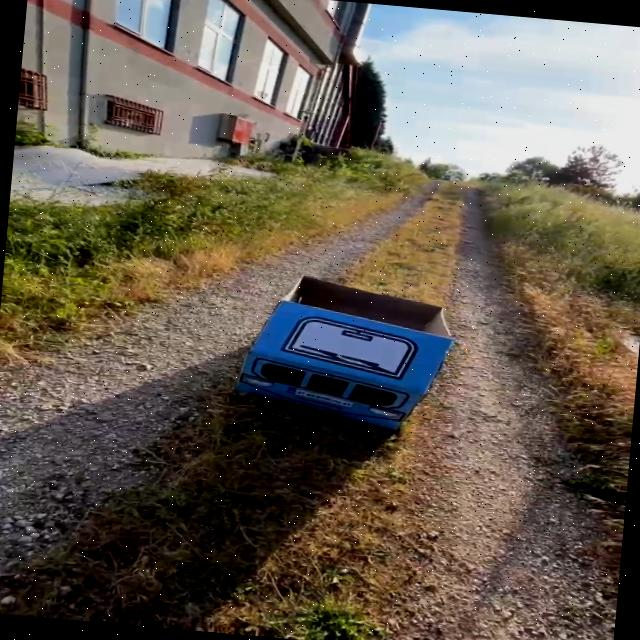blue_car: (198, 260, 481, 452)
